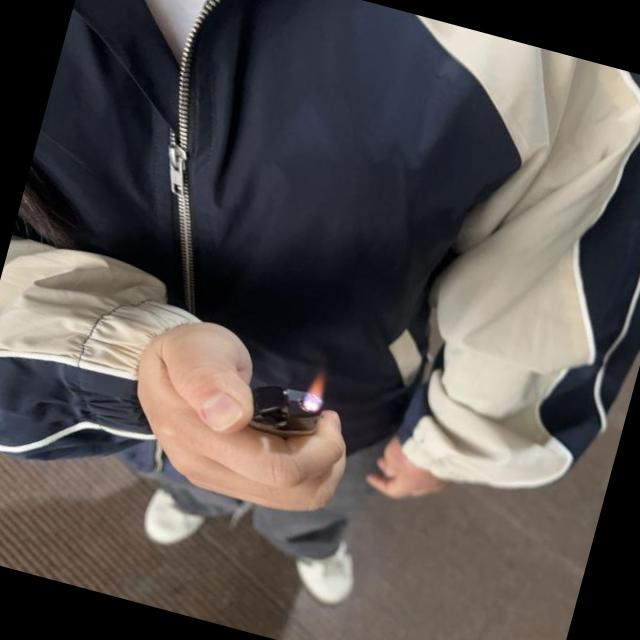Fire: (306, 373, 331, 402)
